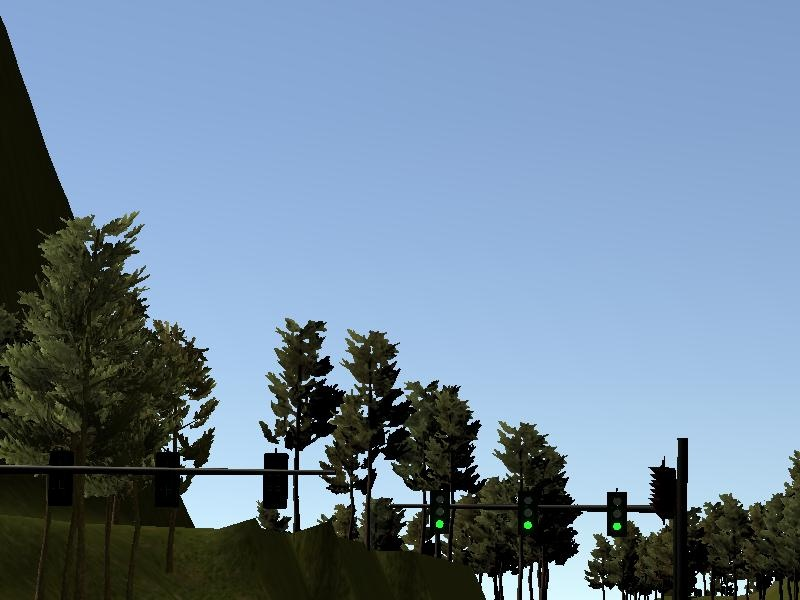GREEN: (606, 494, 631, 538), (428, 488, 451, 534), (516, 490, 538, 538)
